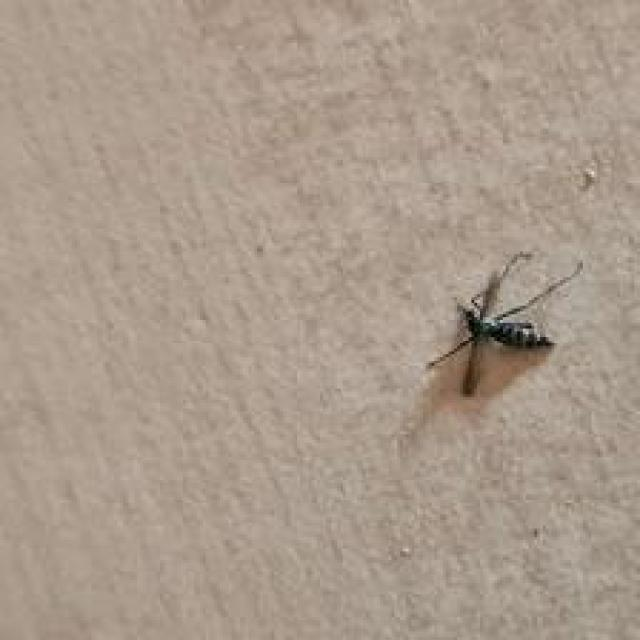Aedes albopictus: (424, 249, 584, 397)
